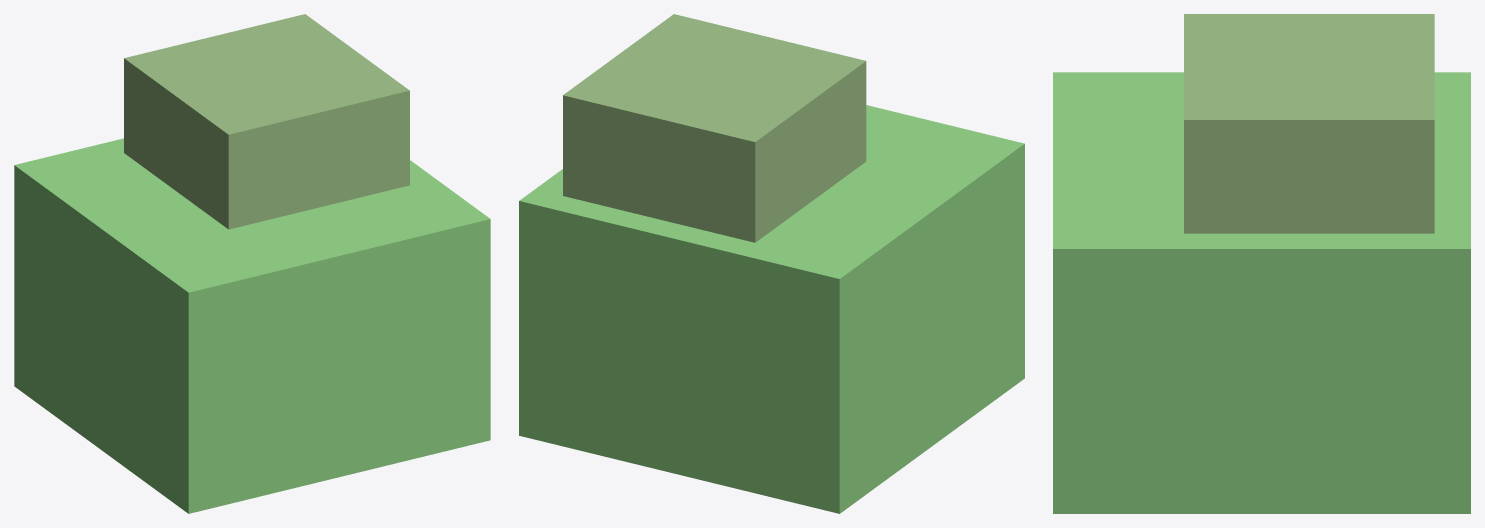
The model's file is Prop_Dress_AMF_Bush_V20.glb.
The picture shows the model from 3 angles, left to right: view 1: azimuth 30°, elevation 25°; view 2: azimuth 150°, elevation 25°; view 3: azimuth 270°, elevation 25°; orthographic projection. The views are drawn at different scales.
Visible parts, largest first — view 1: Prop_Dress_AMF_Bush_V20; view 2: Prop_Dress_AMF_Bush_V20; view 3: Prop_Dress_AMF_Bush_V20.
Boxes of the visible parts, x1,y1,x2,y2 form: Prop_Dress_AMF_Bush_V20: [14, 14, 490, 513]; Prop_Dress_AMF_Bush_V20: [519, 14, 1024, 513]; Prop_Dress_AMF_Bush_V20: [1053, 14, 1470, 513].
Bounding box in the file's own units: 0.8814 × 0.8814 × 0.8814.
